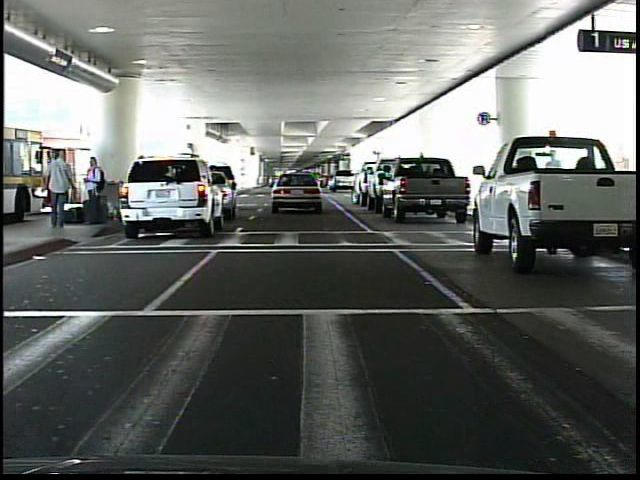person: (45, 149, 79, 233), (82, 155, 108, 229)
